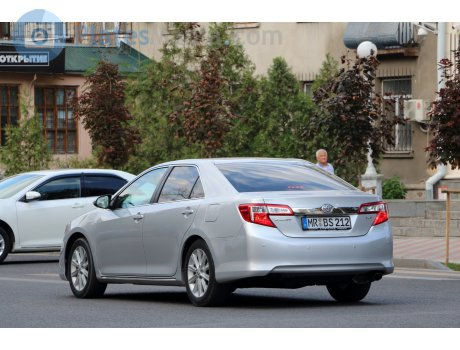License Plates: (309, 217, 347, 225)
